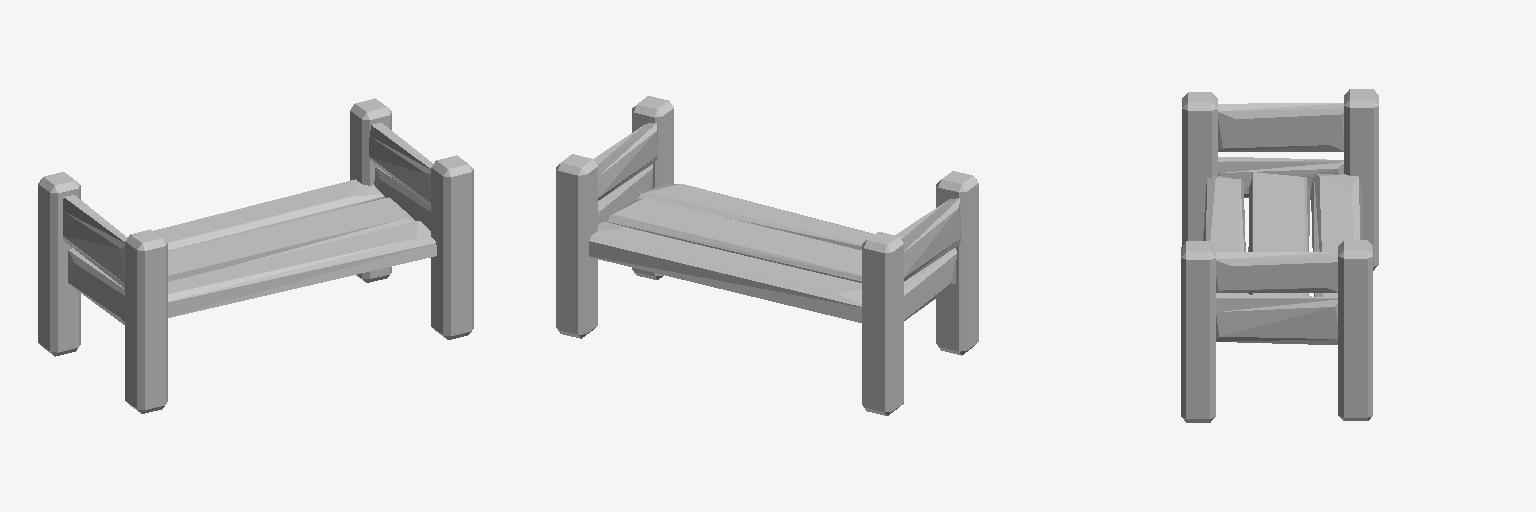
File: Bad.obj
3 renders of one model, left to right at view 1: azimuth 30°, elevation 25°; view 2: azimuth 150°, elevation 25°; view 3: azimuth 270°, elevation 25°, orthographic.
Visible parts, largest first — view 1: Cube.033; view 2: Cube.033; view 3: Cube.033.
Part boxes in pixels (bbox=[...]): Cube.033: bbox=[38, 98, 473, 413]; Cube.033: bbox=[556, 96, 978, 415]; Cube.033: bbox=[1181, 89, 1378, 422].
Size of the model in its own units: 4.03 by 1.93 by 2.03.